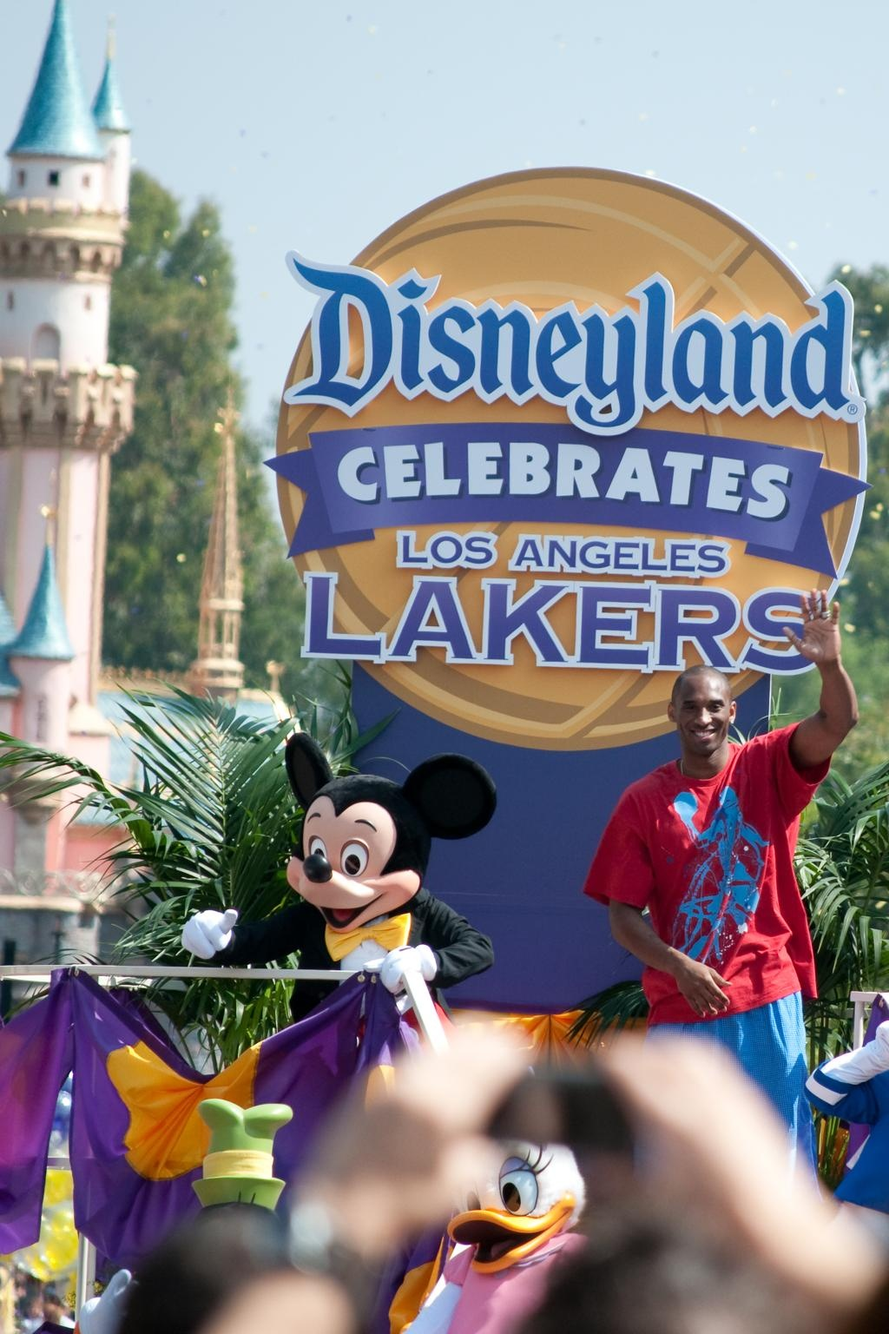human_face: (678, 667, 732, 753)
